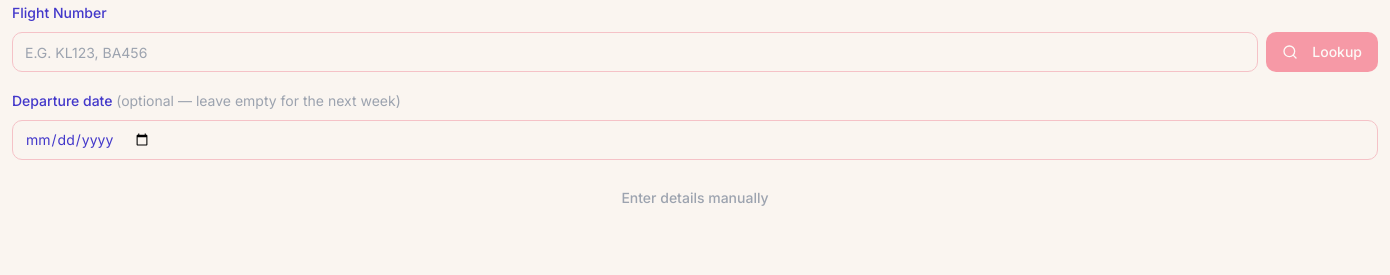
Scenario: FlightLookupSection › shows no-results message when API returns empty candidates
The width and height of the screenshot is (1390, 275).
Type "ZZ999" into the field at (635, 52), box x1=12 y1=32 x2=1258 y2=72
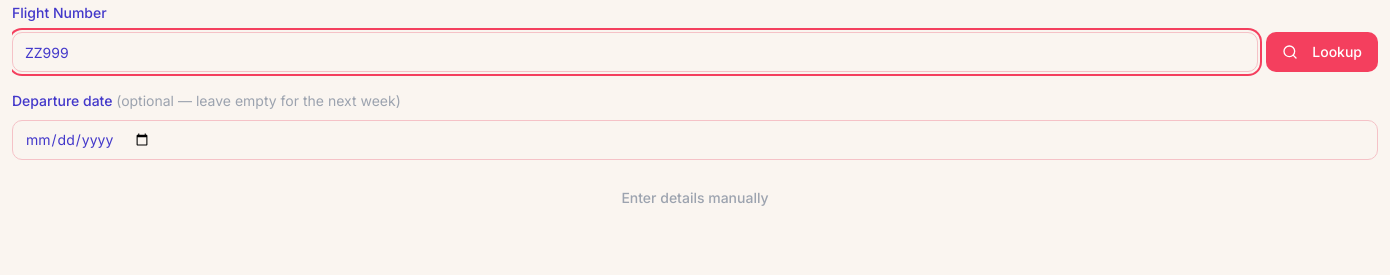
Click the button "Lookup" at (1322, 52), box x1=1266 y1=32 x2=1378 y2=72
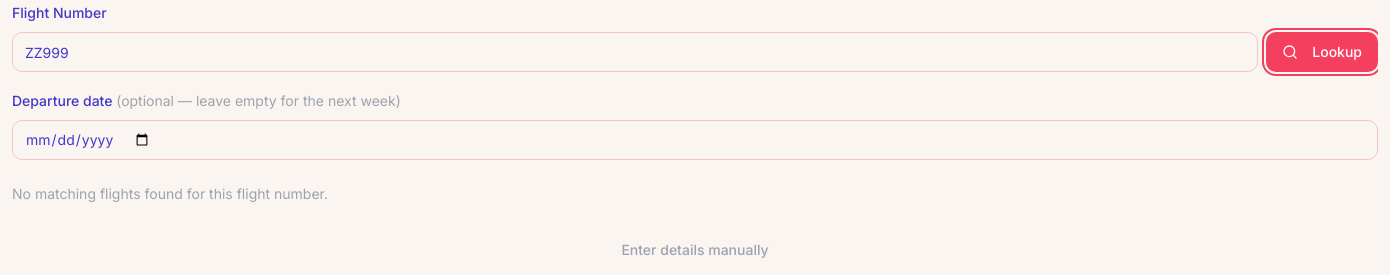
Now the text "No matching flights found for this flight number." is shown, box x1=12 y1=185 x2=328 y2=202
